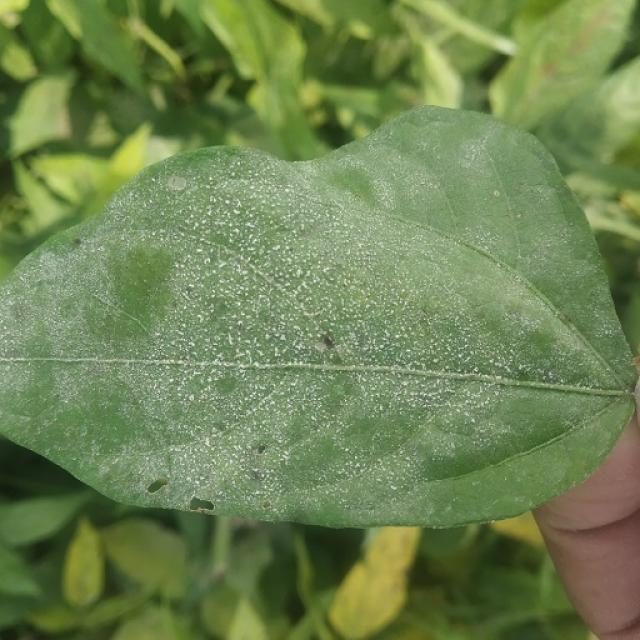Blackgram: (0, 109, 635, 525)
Powdery_Mildew: (196, 234, 353, 334), (218, 371, 290, 421), (186, 314, 232, 351)
